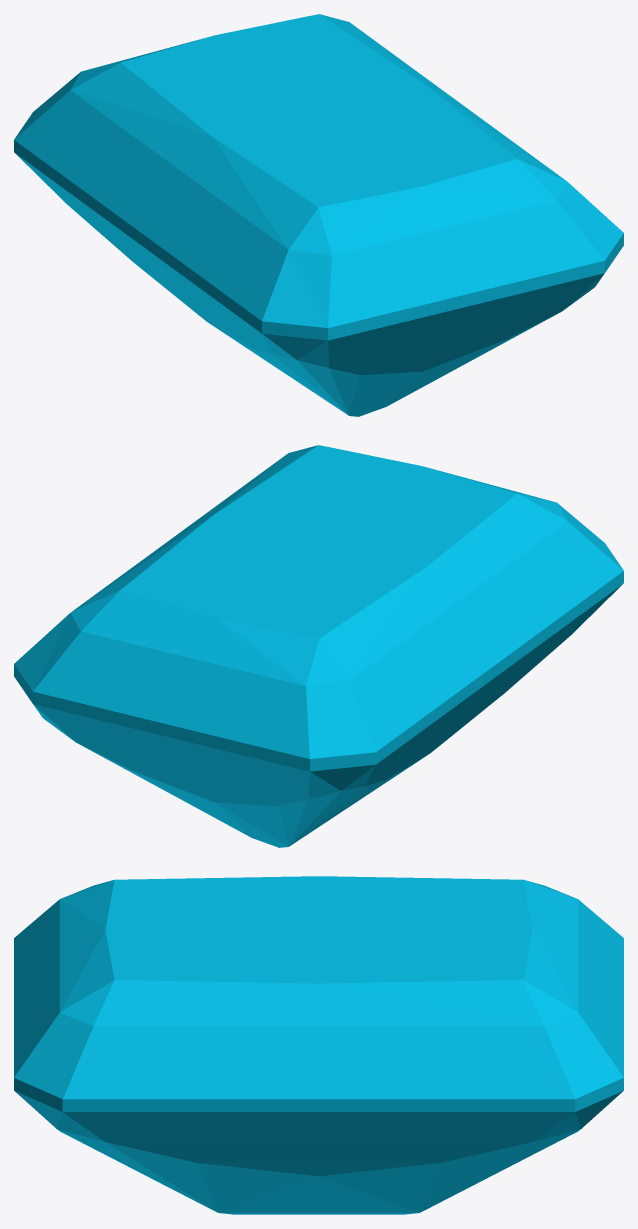
File: Head_Hidden Halo_Radiant_3.0ct_Diamond.glb
3 renders of one model, top to bottom at view 1: azimuth 30°, elevation 25°; view 2: azimuth 150°, elevation 25°; view 3: azimuth 270°, elevation 25°, orthographic. The views are drawn at different scales.
Bounding box in the file's own units: 0.00729 × 0.00531 × 0.0103.
